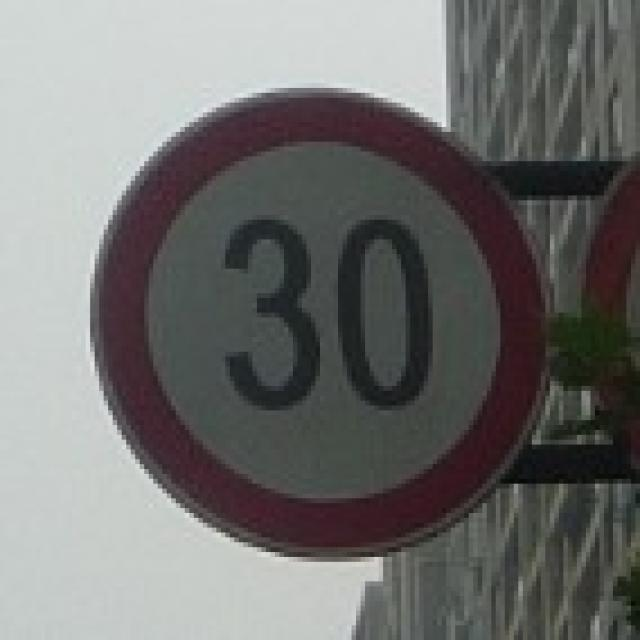Speed Limit -30-: (212, 205, 445, 415)
